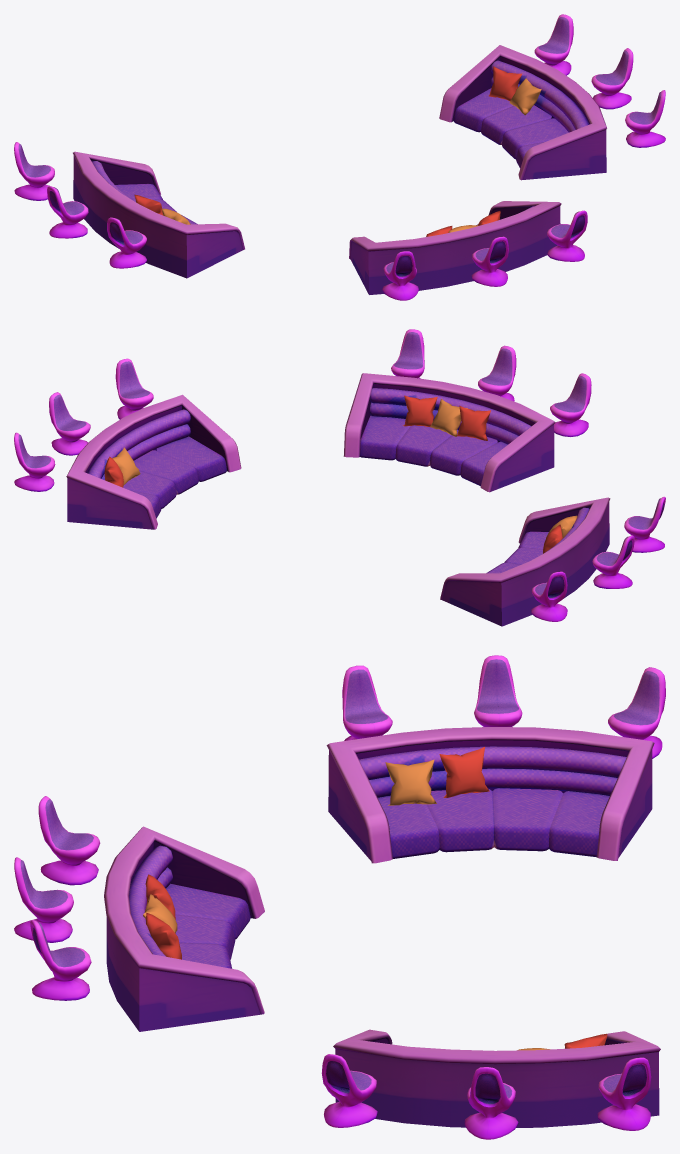
The model's file is ChairsAndSofas.glb.
3 renders of one model, top to bottom at view 1: azimuth 30°, elevation 25°; view 2: azimuth 150°, elevation 25°; view 3: azimuth 270°, elevation 25°, orthographic. The views are drawn at different scales.
Parts seen in each view (by area): view 1: DCLNews_Sofa, DCLNews_Sofa.002, DCLNews_Sofa.001, Pillows, DCLNews_Chair.001, DCLNews_Chair.006, DCLNews_Chair.009, DCLNews_Chair.005, DCLNews_Chair.003, DCLNews_Chair.008, DCLNews_Chair.007, DCLNews_Chair.002 (+1 smaller); view 2: DCLNews_Sofa.001, DCLNews_Sofa, DCLNews_Sofa.002, Pillows, DCLNews_Chair.007, DCLNews_Chair.001, DCLNews_Chair.003, DCLNews_Chair.002, DCLNews_Chair.004, DCLNews_Chair.005, DCLNews_Chair.008, DCLNews_Chair.009 (+1 smaller); view 3: DCLNews_Sofa.002, DCLNews_Sofa.001, DCLNews_Sofa, Pillows, DCLNews_Chair.007, DCLNews_Chair.002, DCLNews_Chair.003, DCLNews_Chair.001, DCLNews_Chair.009, DCLNews_Chair.004, DCLNews_Chair.006, DCLNews_Chair.008 (+1 smaller).
Part boxes in pixels (x1,y1,x2,y2): DCLNews_Sofa: (439,45,606,180); DCLNews_Sofa.002: (73,151,244,278); DCLNews_Sofa.001: (349,201,561,294); Pillows: (134,66,541,236); DCLNews_Chair.001: (591,48,633,109); DCLNews_Chair.006: (107,217,146,268); DCLNews_Chair.009: (547,210,587,261); DCLNews_Chair.005: (47,186,88,238); DCLNews_Chair.003: (534,14,573,75); DCLNews_Chair.008: (471,236,508,286); DCLNews_Chair.007: (382,251,418,300); DCLNews_Chair.002: (625,90,665,147); DCLNews_Sofa.001: (343,373,555,492); DCLNews_Sofa: (66,394,241,529); DCLNews_Sofa.002: (440,497,610,626); Pillows: (104,395,577,553); DCLNews_Chair.007: (550,373,591,436); DCLNews_Chair.001: (49,392,90,455); DCLNews_Chair.003: (14,432,55,491); DCLNews_Chair.002: (115,358,153,419); DCLNews_Chair.004: (531,571,567,621); DCLNews_Chair.005: (592,535,634,588); DCLNews_Chair.008: (478,345,516,401); DCLNews_Chair.009: (391,329,424,378); DCLNews_Sofa.002: (326,727,654,863); DCLNews_Sofa.001: (104,826,264,1031); DCLNews_Sofa: (333,1029,660,1127); Pillows: (143,747,607,1050); DCLNews_Chair.007: (38,796,100,885); DCLNews_Chair.002: (321,1054,377,1127); DCLNews_Chair.003: (597,1057,651,1130); DCLNews_Chair.001: (464,1067,518,1139); DCLNews_Chair.009: (30,920,91,1000); DCLNews_Chair.004: (608,667,665,758); DCLNews_Chair.006: (342,665,392,740); DCLNews_Chair.008: (14,857,73,942).
Size of what is drawn, in the model's own units: 15.76 by 1.82 by 10.49.
3 materials, 1 textured.
